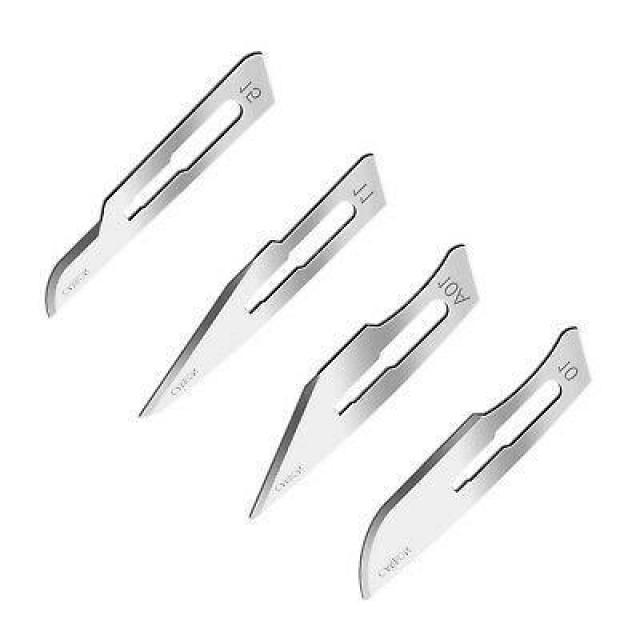Scalpel: (136, 149, 390, 424), (245, 240, 480, 525), (358, 324, 596, 604), (43, 43, 277, 320)
